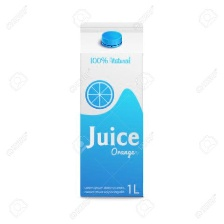carton: (75, 17, 150, 202)
